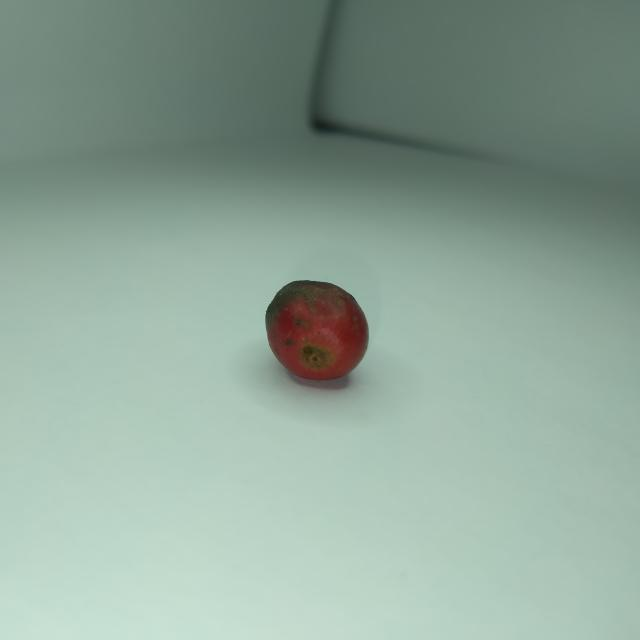Infectado: (266, 280, 368, 383)
